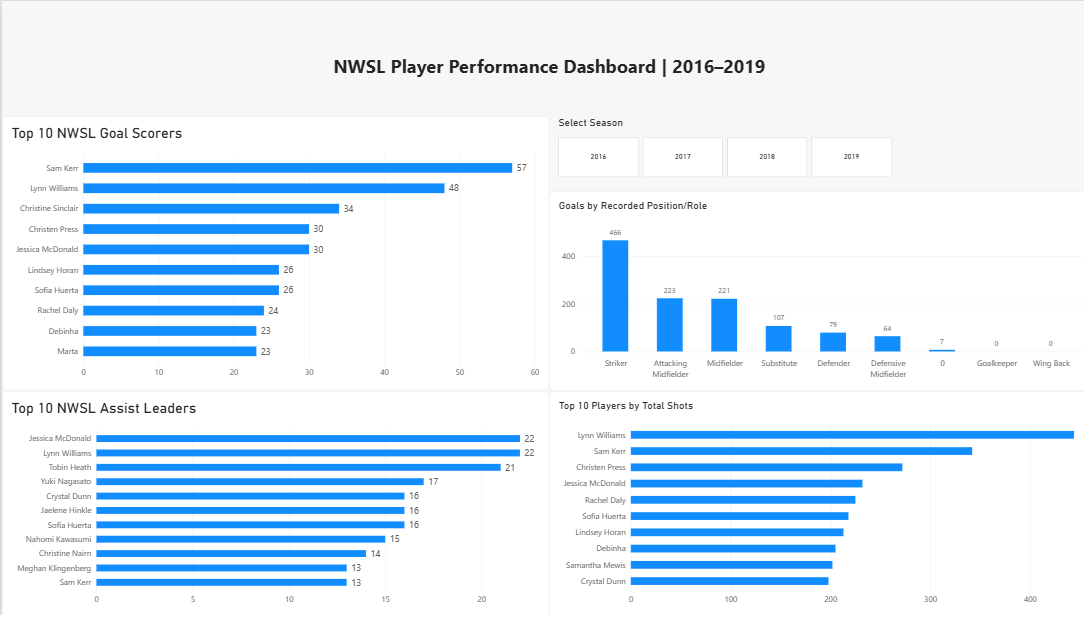

The page's visual inventory and layout, read from the dashboard file:
{"tool":"powerbi","page":{"name":"Player Performance","canvas":[1920,1080],"ordinal":1},"visuals":[{"type":"clusteredBarChart","title":"Top 10 NWSL Goal Scorers ","fields":{"Category":["nwsl_players_cleaned.player_name"],"Y":["Sum(nwsl_players_cleaned.goals)"]},"box":[0,203.3,960,480],"z":0},{"type":"clusteredBarChart","title":"Top 10 NWSL Assist Leaders","fields":{"Category":["nwsl_players_cleaned.player_name"],"Y":["Sum(nwsl_players_cleaned.goal_assist)"]},"box":[0,683.3,960,396.7],"z":1},{"type":"advancedSlicerVisual","title":"Select Season","fields":{"Values":["Seasons.season"]},"box":[975,203.3,945,143.3],"z":2},{"type":"textbox","box":[0,93.3,1920,63.3],"z":3},{"type":"clusteredBarChart","title":"Top 10 Players by Total Shots","fields":{"Category":["nwsl_players_cleaned.player_name"],"Y":["Sum(nwsl_players_cleaned.total_shots)"]},"box":[960,683.3,960,396.7],"z":4},{"type":"clusteredColumnChart","title":"Goals by Recorded Position/Role","fields":{"Category":["nwsl_players_cleaned.position"],"Y":["Sum(nwsl_players_cleaned.goals)"]},"box":[960,333.3,960,350],"z":5}]}

Visuals, with their boxes on the page's 1920x1080 design canvas (x1, y1, x2, y2). These are canvas units, not pixel positions in the 1084x636 screenshot, which may show the page scaled, cropped or inside an application window:
"Top 10 NWSL Goal Scorers " clusteredBarChart: left=0, top=203, right=960, bottom=683
"Top 10 NWSL Assist Leaders" clusteredBarChart: left=0, top=683, right=960, bottom=1080
"Select Season" advancedSlicerVisual: left=975, top=203, right=1920, bottom=347
textbox: left=0, top=93, right=1920, bottom=157
"Top 10 Players by Total Shots" clusteredBarChart: left=960, top=683, right=1920, bottom=1080
"Goals by Recorded Position/Role" clusteredColumnChart: left=960, top=333, right=1920, bottom=683
